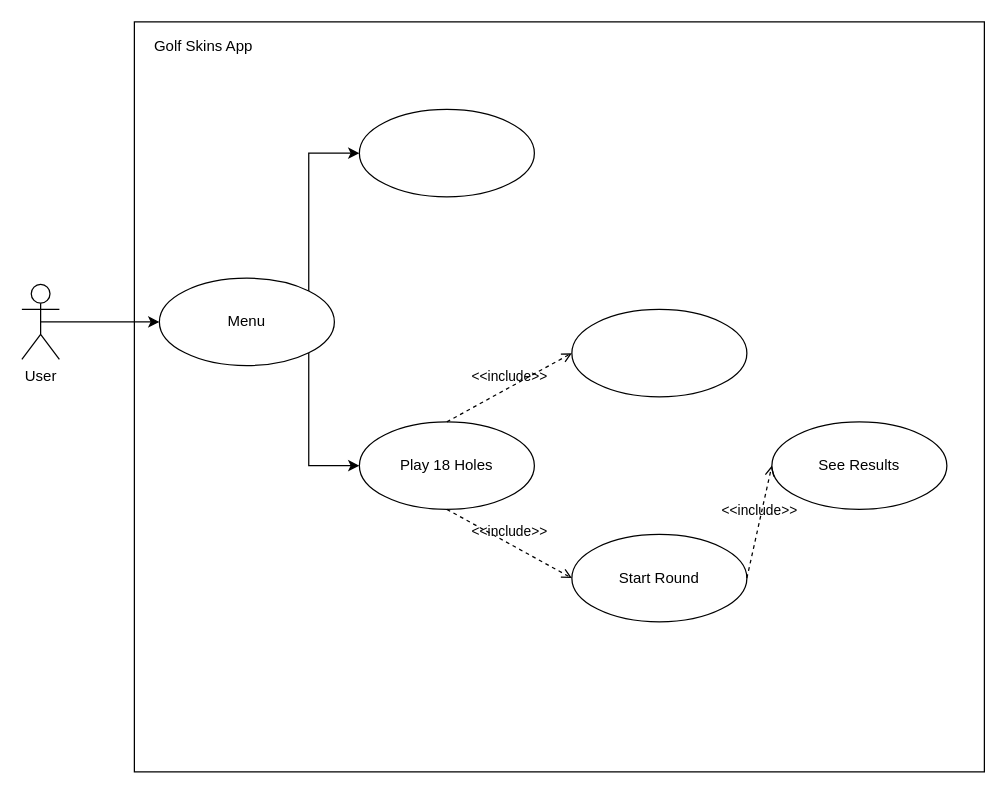
Some shapes in this 1006 by 794 pixel diagram are drawn without their labels. Here are the shapes that lost their labels. From the top down, the centre of each, then its label:
the point at 446,152: Select Course
the point at 659,352: Add Players
